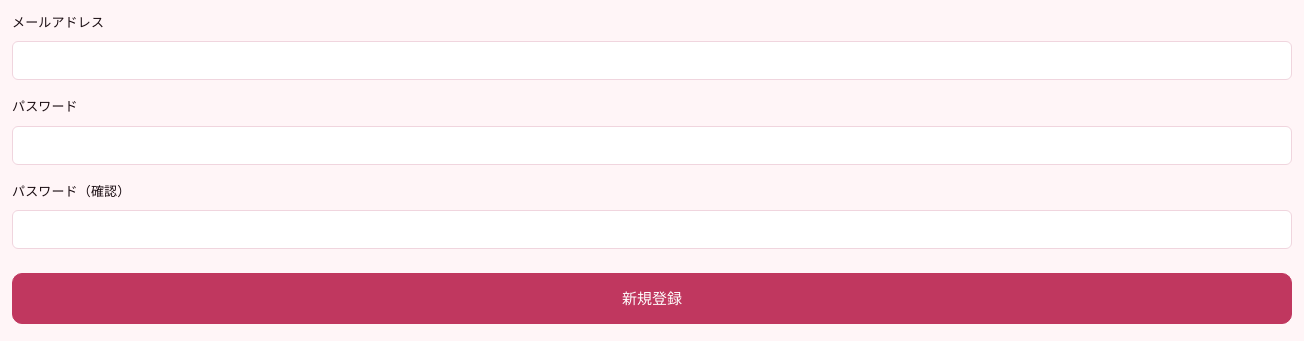
Test: RegisterForm › ローディング中はボタンが無効になる
The width and height of the screenshot is (1304, 341).
Type "new@example.com" into the field labelled "メールアドレス". click: x=652, y=61
box: [12, 41, 1292, 80]
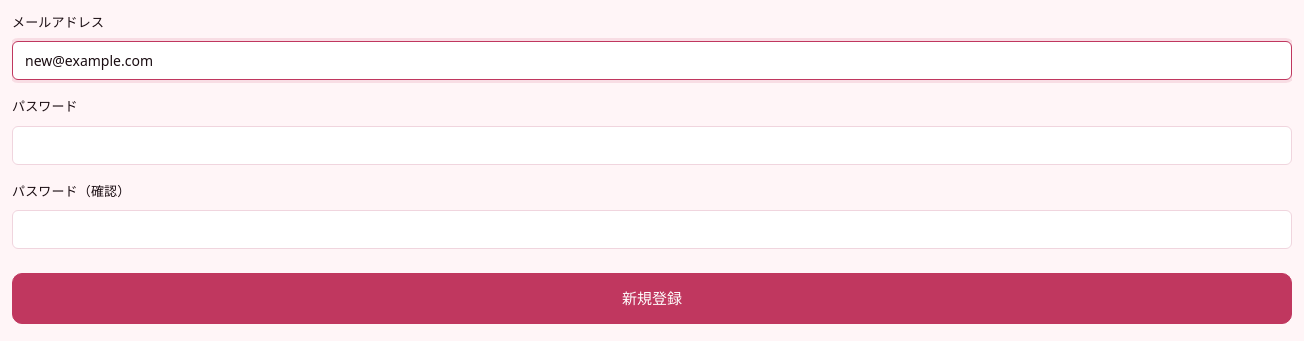
Type "password123" into the password field labelled "パスワード". click: x=652, y=145
box: [12, 126, 1292, 165]
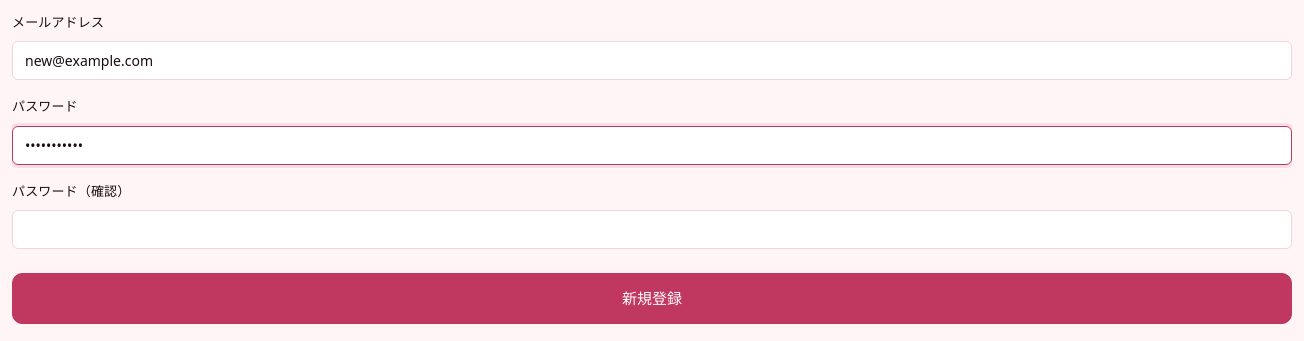
Type "password123" into the password field labelled "パスワード（確認）". click: x=652, y=230
box: [12, 210, 1292, 249]
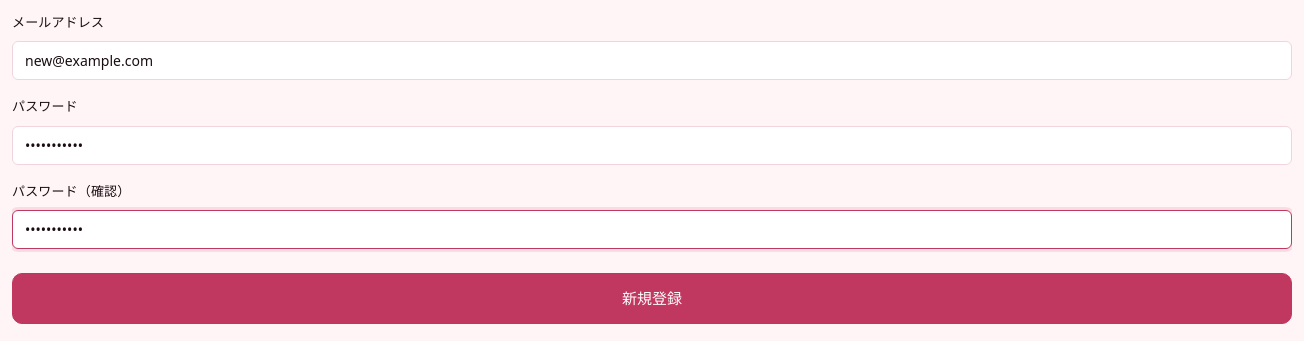
Click the button "新規登録". click: x=652, y=299
box: [12, 273, 1292, 324]
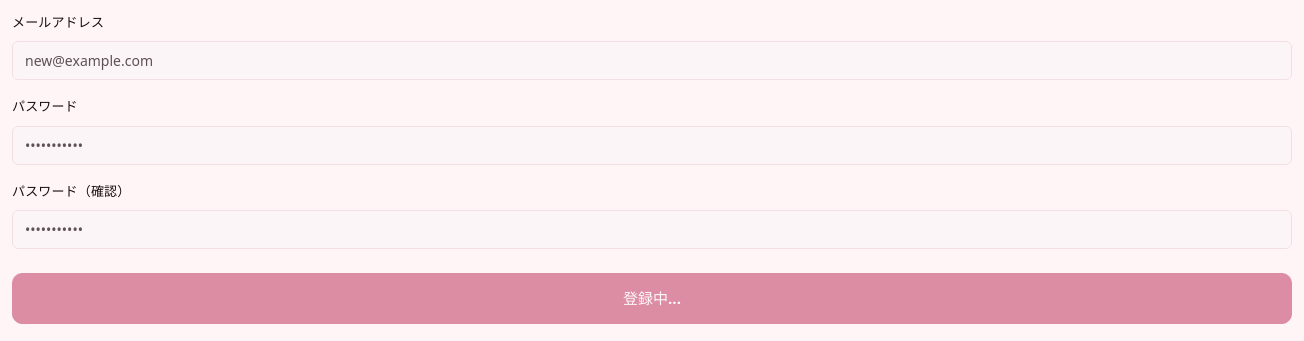
Now the button "登録中..." is disabled, box [12, 273, 1292, 324]
